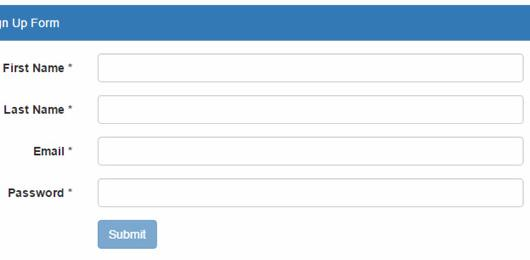button: (95, 219, 158, 250)
field: (95, 94, 525, 125), (95, 136, 525, 166), (95, 53, 523, 83), (95, 178, 525, 207)
